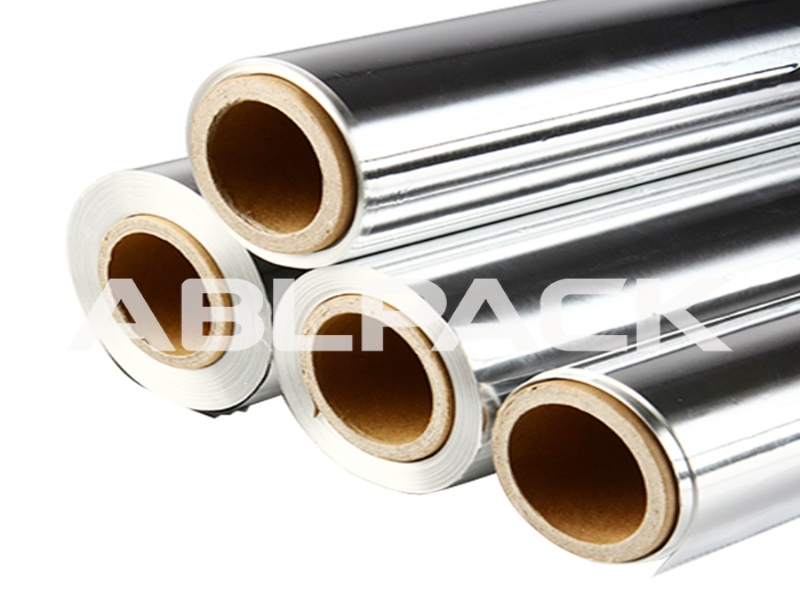Aluminium_Foil: (172, 23, 797, 256), (370, 305, 796, 588), (584, 46, 760, 304), (336, 39, 569, 184)
